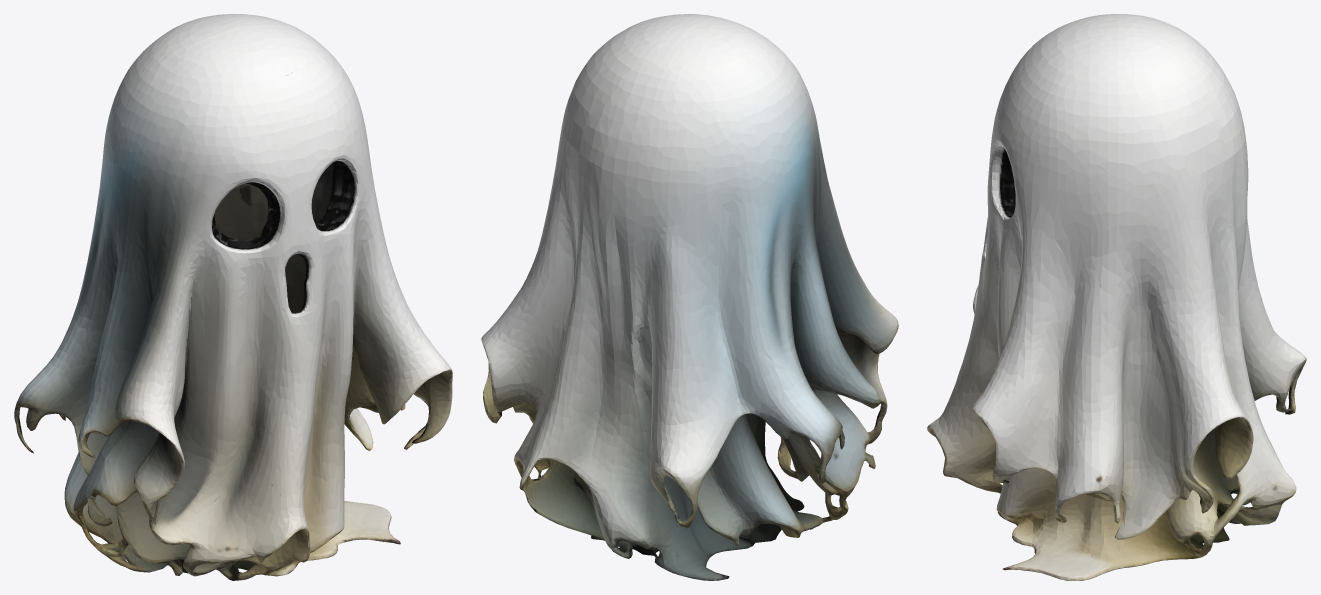
File: ghost.glb
The picture shows the model from 3 angles, left to right: view 1: azimuth 30°, elevation 25°; view 2: azimuth 150°, elevation 25°; view 3: azimuth 270°, elevation 25°; orthographic projection. The views are drawn at different scales.
Parts seen in each view (by area): view 1: world; view 2: world; view 3: world.
Boxes of the visible parts, x1,y1,x2,y2 form: world: (14, 14, 452, 580); world: (481, 14, 898, 580); world: (927, 14, 1306, 580).
Size of the model in its own units: 0.7763 by 1 by 0.7013.
1 material, 1 textured.
